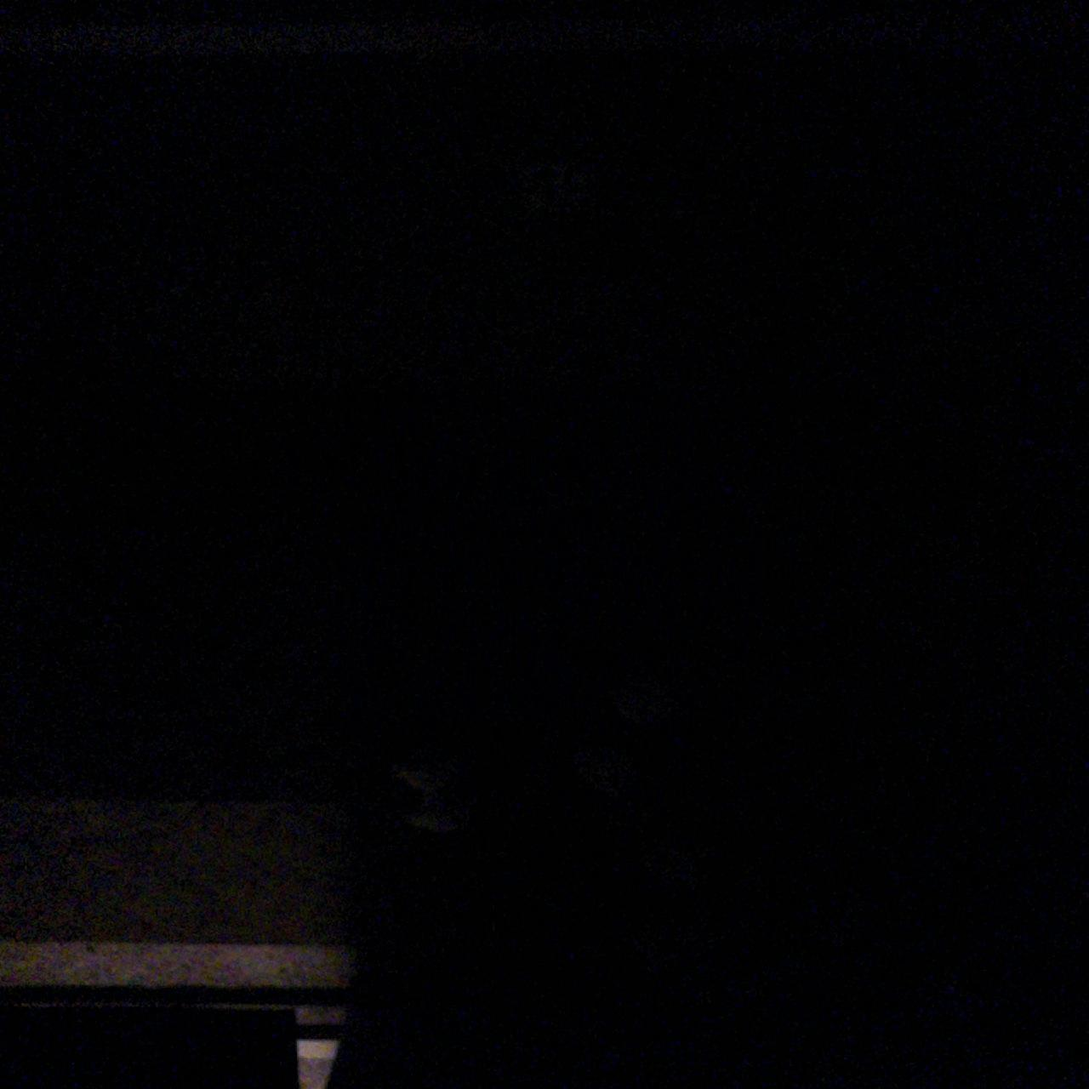chicken: (400, 796, 485, 847), (393, 755, 457, 797)
